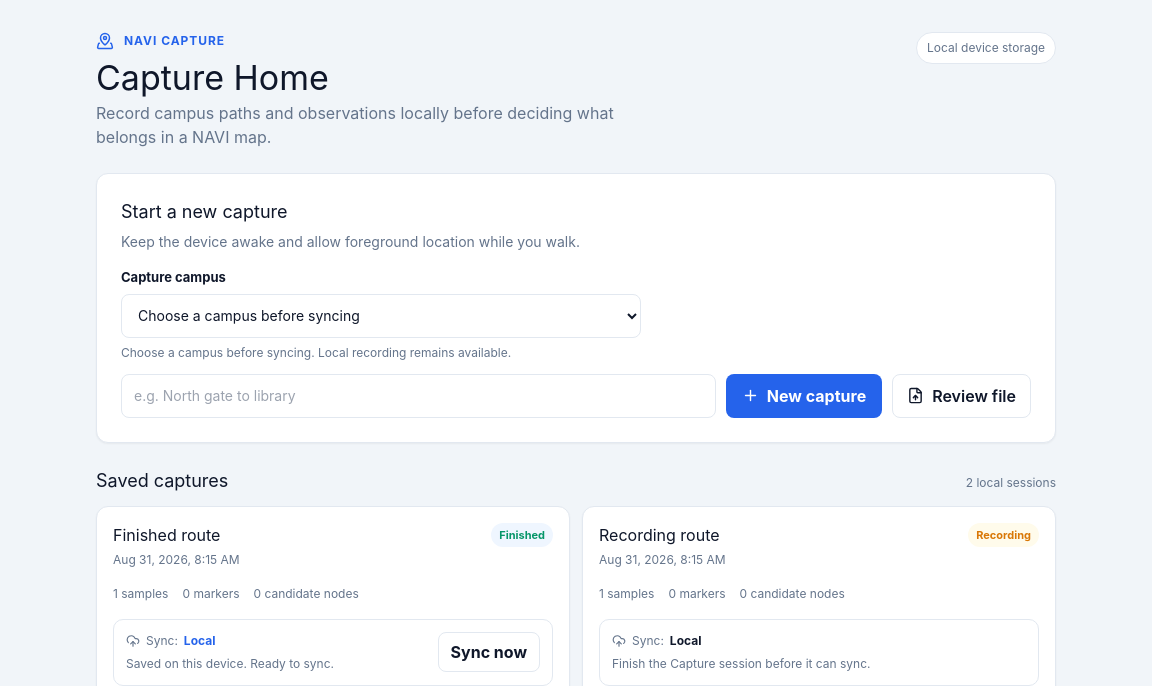
it: Capture Sync UI composition › shows Retry and a provider-neutral error for a failed sync
Click the button with aria-label "Sync now for Finished route": (489, 652) [438,632,540,672]
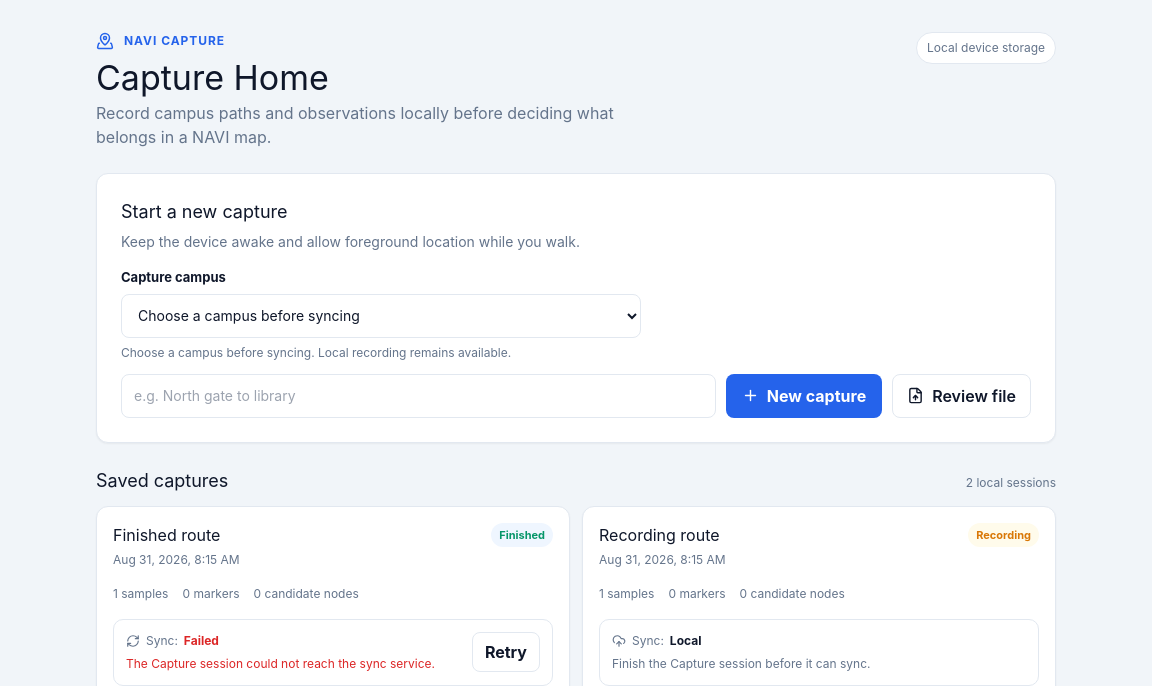
expect the message does not show "supabase": met, box [126,655,460,673]
expect the button with aria-label "Retry Finished route" is shown: met, box [472,632,540,672]
expect the message shows "could not reach the sync service": met, box [126,656,435,671]
